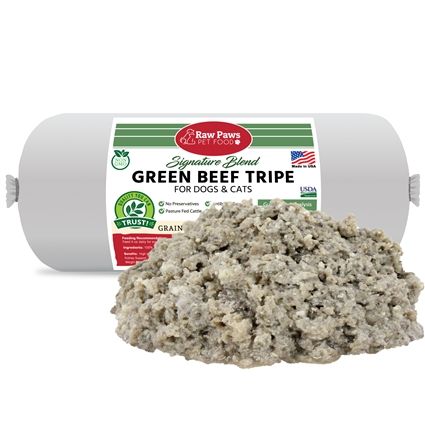ground_beef: (126, 197, 399, 367)
